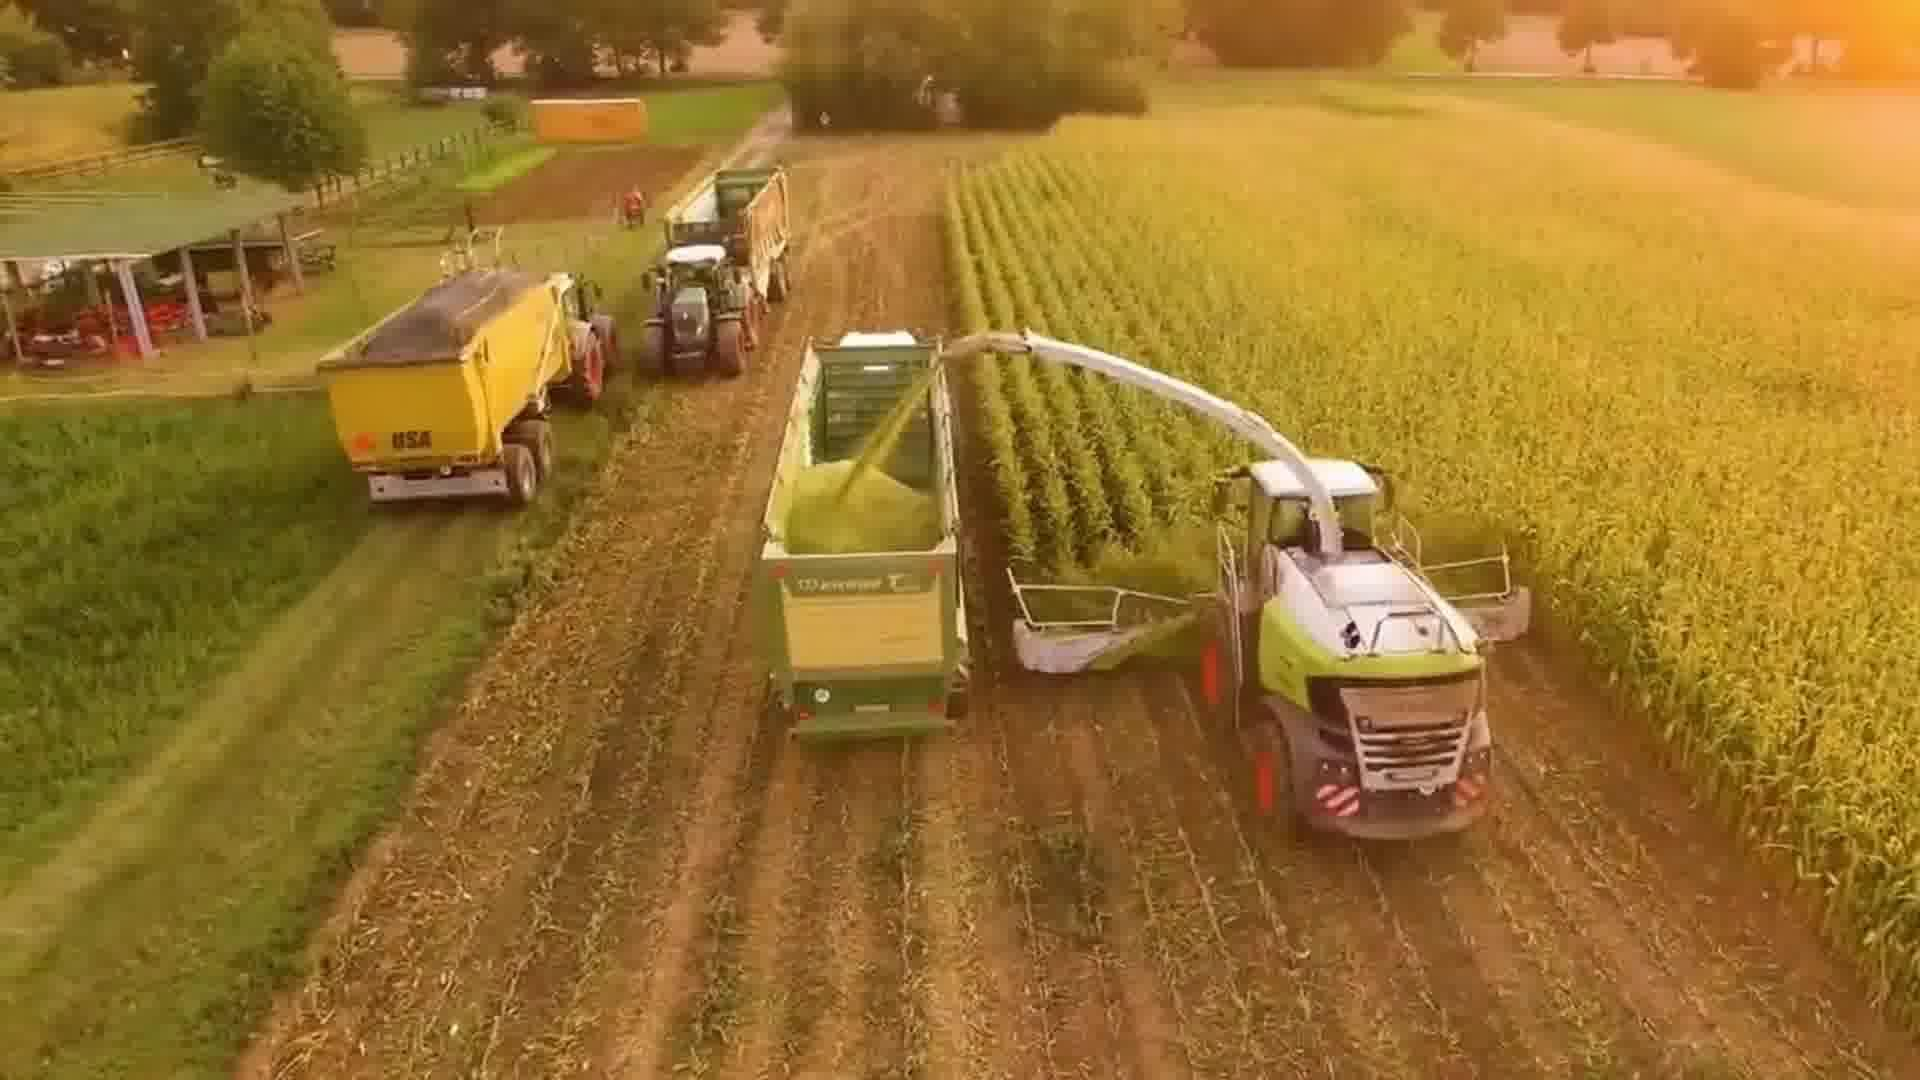combine harvester: (947, 319, 1547, 851)
tractor: (633, 240, 756, 378), (545, 265, 620, 406), (828, 323, 928, 353)
trailer: (750, 334, 972, 742), (311, 264, 576, 513), (658, 161, 798, 309)
